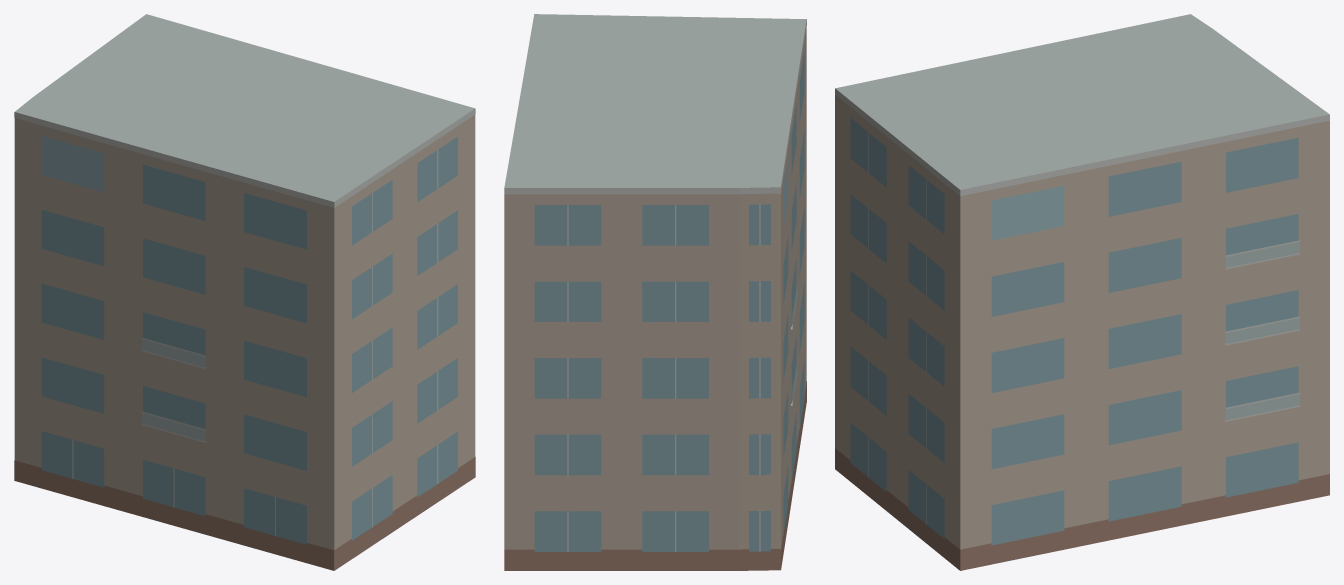
File: survey-upis-32698002.glb
3 renders of one model, left to right at view 1: azimuth 30°, elevation 25°; view 2: azimuth 150°, elevation 25°; view 3: azimuth 270°, elevation 25°, orthographic. The views are drawn at different scales.
Visible parts, largest first — view 1: survey-upis-32698002.tmp; view 2: survey-upis-32698002.tmp; view 3: survey-upis-32698002.tmp.
Boxes of the visible parts, x1=… form: survey-upis-32698002.tmp: x1=14, y1=14, x2=475, y2=570; survey-upis-32698002.tmp: x1=504, y1=14, x2=806, y2=570; survey-upis-32698002.tmp: x1=835, y1=14, x2=1329, y2=570.
Size of the model in its own units: 14.87 by 15 by 17.67.
